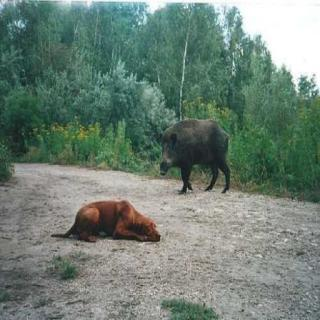Pig: (137, 115, 254, 185)
